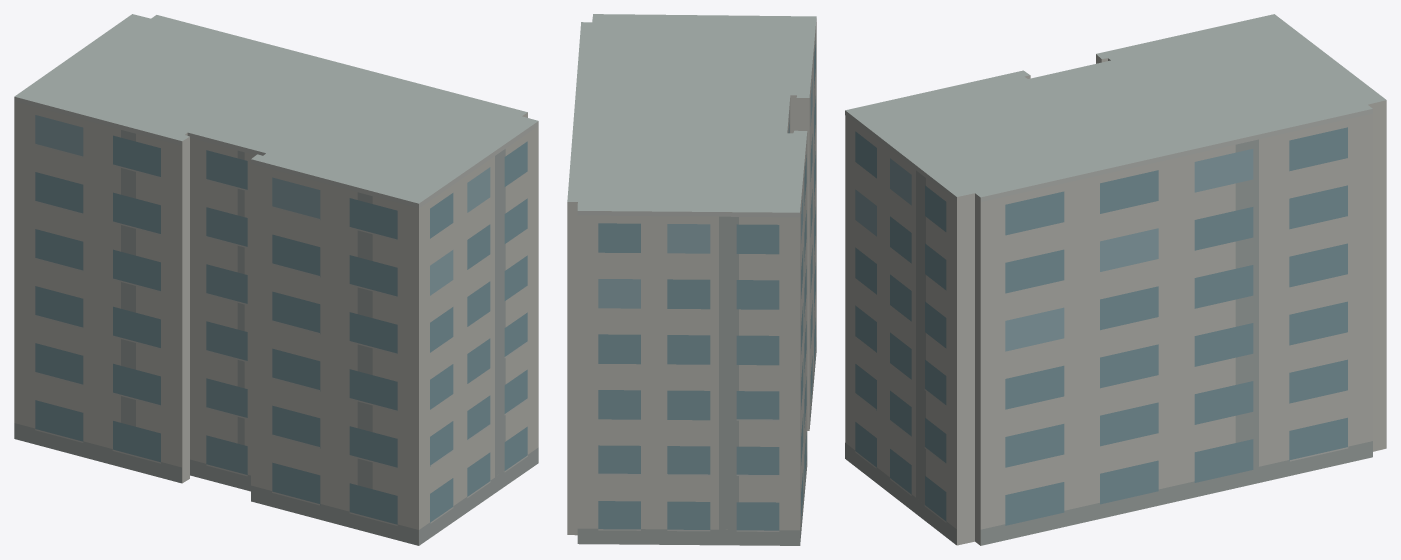
Rendered from survey-upis-32836553.glb.
3 views of the same model, side by side, from view 1: azimuth 30°, elevation 25°; view 2: azimuth 150°, elevation 25°; view 3: azimuth 270°, elevation 25° (orthographic). The views are drawn at different scales.
Visible parts, largest first — view 1: survey-upis-32836553.tmp; view 2: survey-upis-32836553.tmp; view 3: survey-upis-32836553.tmp.
Part boxes in pixels (x1,y1,x2,y2): survey-upis-32836553.tmp: (14,14,538,545); survey-upis-32836553.tmp: (567,14,816,545); survey-upis-32836553.tmp: (845,14,1386,545).
Size of the model in its own units: 19.54 by 17.3 by 24.38.
